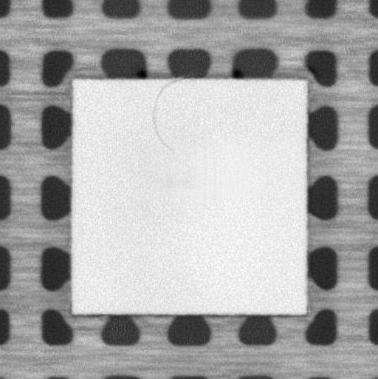DIE_CRACK: (142, 78, 177, 151)
